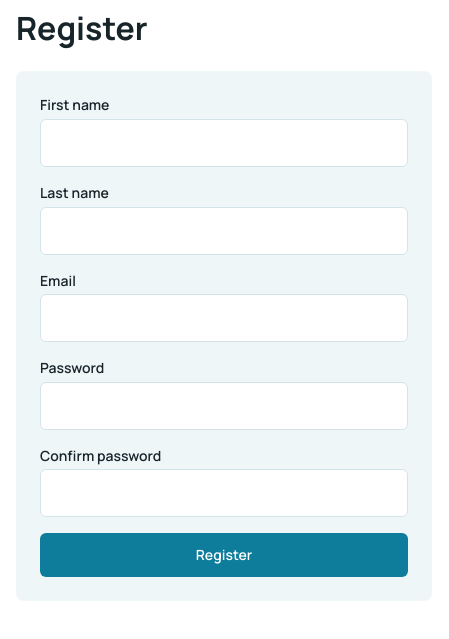
it: Register › shows a format error and retains the entered email on 400
Type "John" into the field labelled "First name" at (224, 143), box x1=40 y1=119 x2=408 y2=167
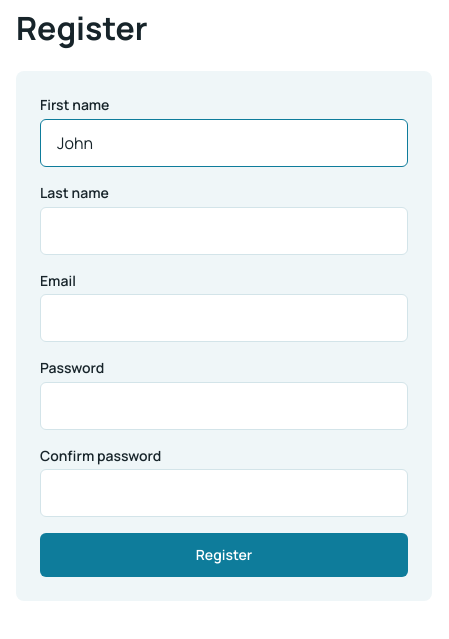
Type "Smith" into the field labelled "Last name" at (224, 231), box x1=40 y1=207 x2=408 y2=255
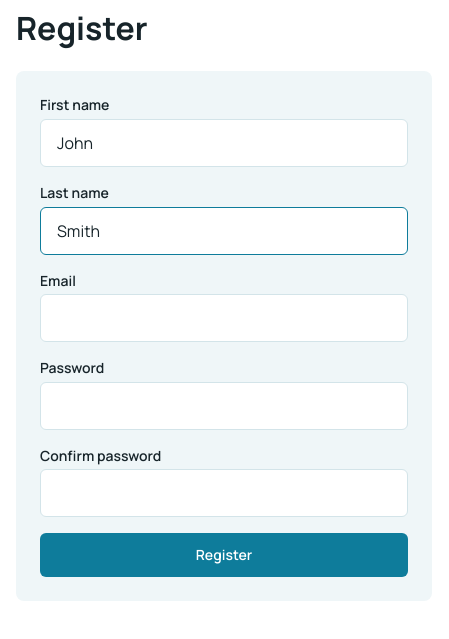
Type "testbademail" into the field labelled "Email" at (224, 318), box x1=40 y1=294 x2=408 y2=342
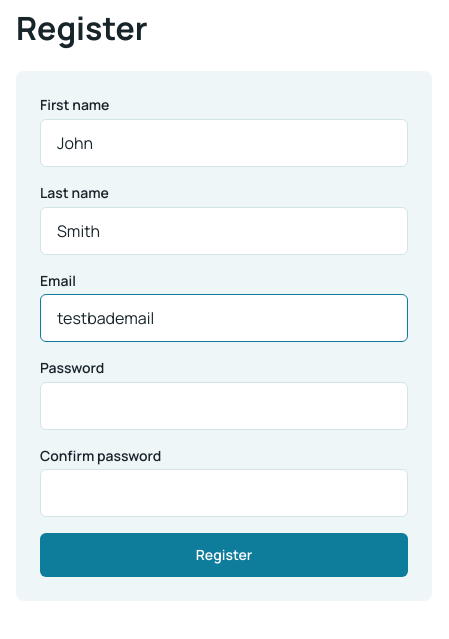
Type "hunter222" into the password field labelled "Password" at (224, 406), box x1=40 y1=382 x2=408 y2=430
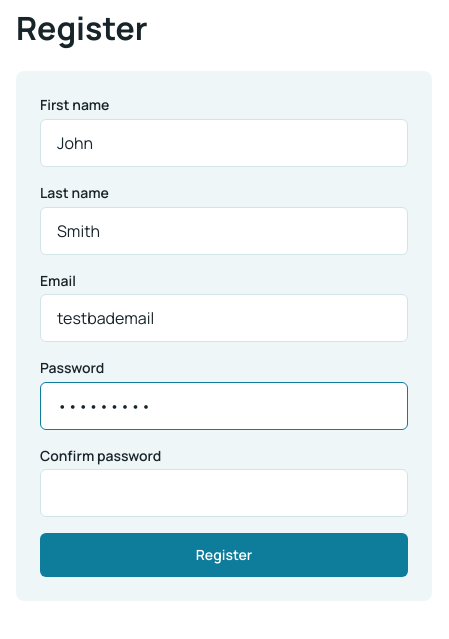
Type "hunter222" into the password field labelled "Confirm password" at (224, 493), box x1=40 y1=469 x2=408 y2=517
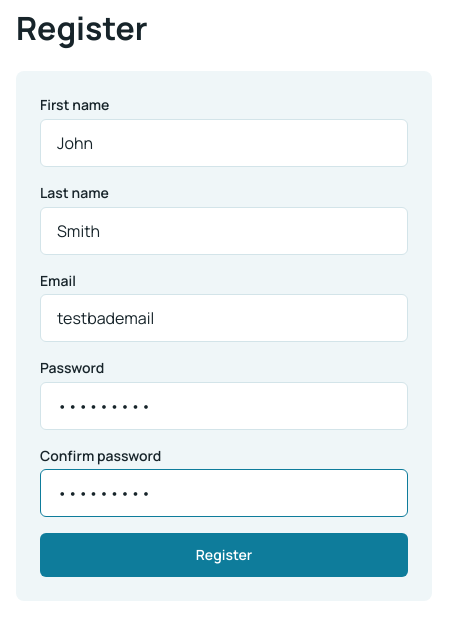
Click the button "Register" at (224, 555), box x1=40 y1=533 x2=408 y2=577
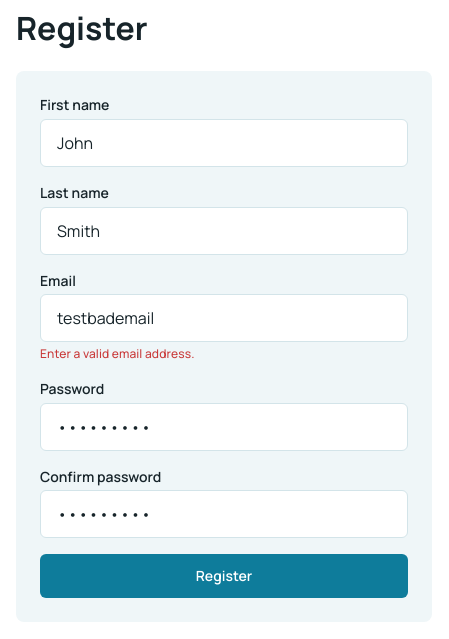
Check: the text "Enter a valid email address." is shown, box x1=40 y1=345 x2=194 y2=362
